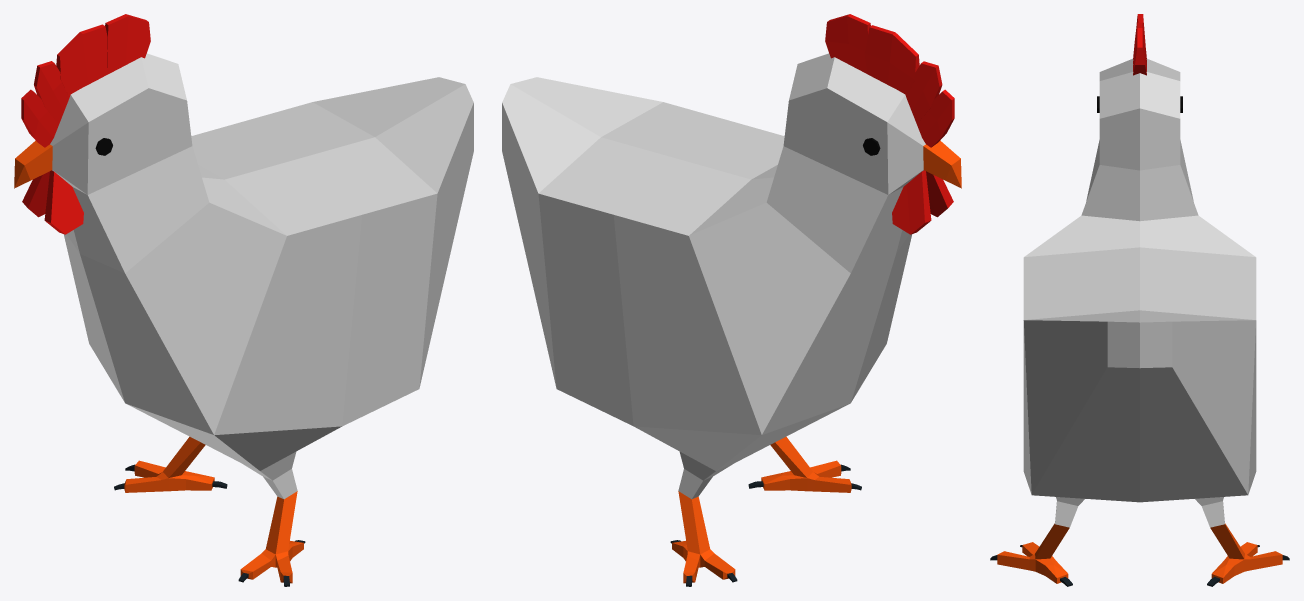
The model's file is Chicken_01.obj.
The picture shows the model from 3 angles, left to right: view 1: azimuth 30°, elevation 25°; view 2: azimuth 150°, elevation 25°; view 3: azimuth 270°, elevation 25°; orthographic projection. The views are drawn at different scales.
Visible parts, largest first — view 1: Cube.035_Cube.034; view 2: Cube.035_Cube.034; view 3: Cube.035_Cube.034.
Boxes of the visible parts, x1=… form: Cube.035_Cube.034: x1=14, y1=14, x2=473, y2=586; Cube.035_Cube.034: x1=502, y1=14, x2=961, y2=586; Cube.035_Cube.034: x1=990, y1=14, x2=1289, y2=586.
Size of the model in its own units: 167 by 189 by 103.
